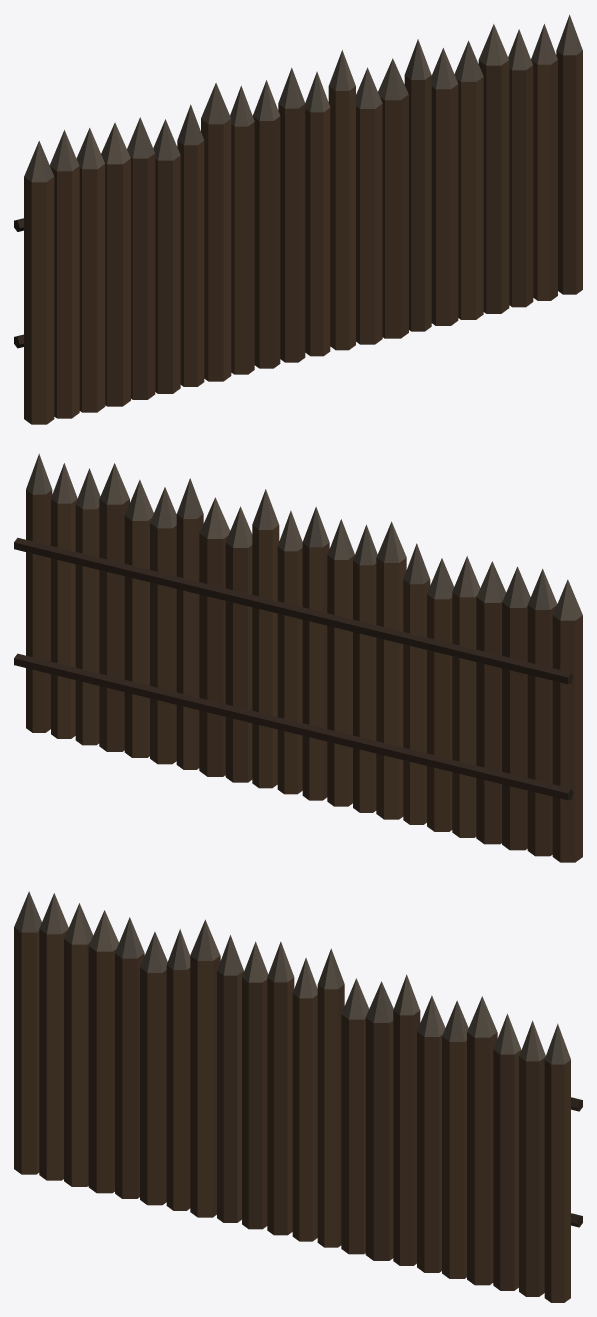
The model's file is walk_tidebound_wall.glb.
3 views of the same model, one above another, from view 1: azimuth 30°, elevation 25°; view 2: azimuth 150°, elevation 25°; view 3: azimuth 330°, elevation 25° (orthographic).
Parts seen in each view (by area): view 1: walk_tidebound_wall; view 2: walk_tidebound_wall; view 3: walk_tidebound_wall.
Part boxes in pixels (x1=…): walk_tidebound_wall: x1=14, y1=14, x2=582, y2=424; walk_tidebound_wall: x1=14, y1=453, x2=582, y2=862; walk_tidebound_wall: x1=14, y1=891, x2=582, y2=1302.
Size of what is drawn, in the model's own units: 8 by 4.07 by 0.5142.
Materials: 1 (1 with a texture image).
